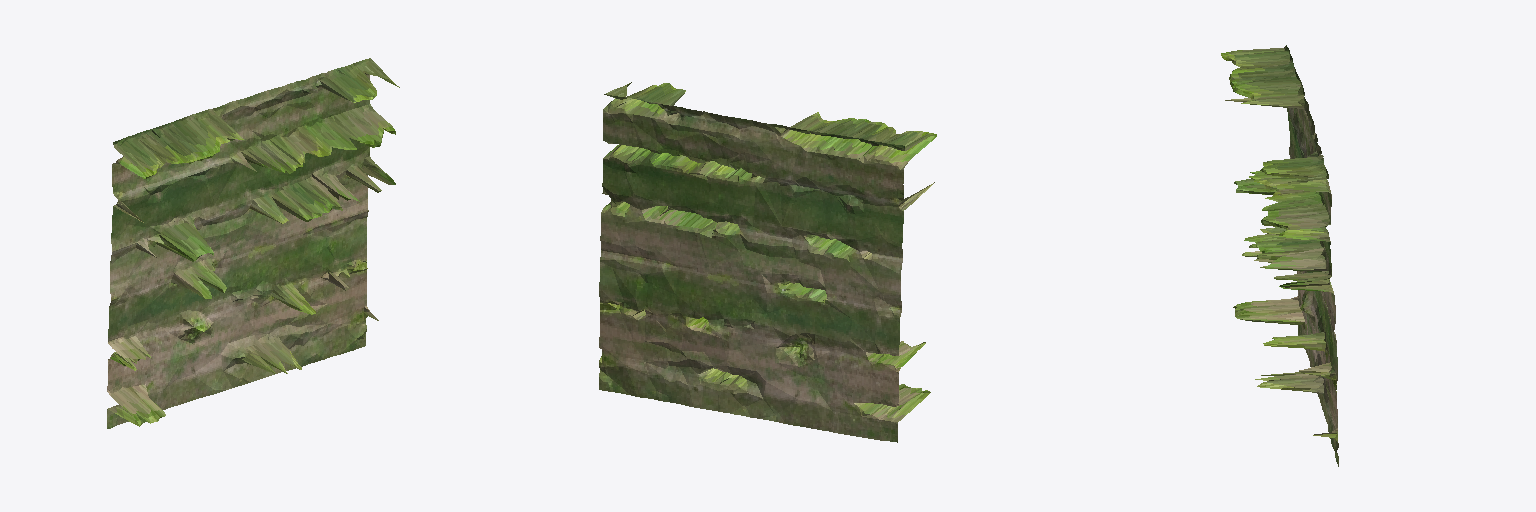
The picture shows the model from 3 angles: view 1: azimuth 30°, elevation 25°; view 2: azimuth 150°, elevation 25°; view 3: azimuth 270°, elevation 25°; orthographic projection.
Visible parts, largest first — view 1: grp1; view 2: grp1; view 3: grp1.
Part boxes in pixels (left/top/right/bottom): grp1: left=107, top=58, right=399, bottom=428; grp1: left=599, top=82, right=936, bottom=442; grp1: left=1221, top=45, right=1338, bottom=466.
Bounding box in the file's own units: 10 × 10 × 3.67.
1 materials, 1 textured.